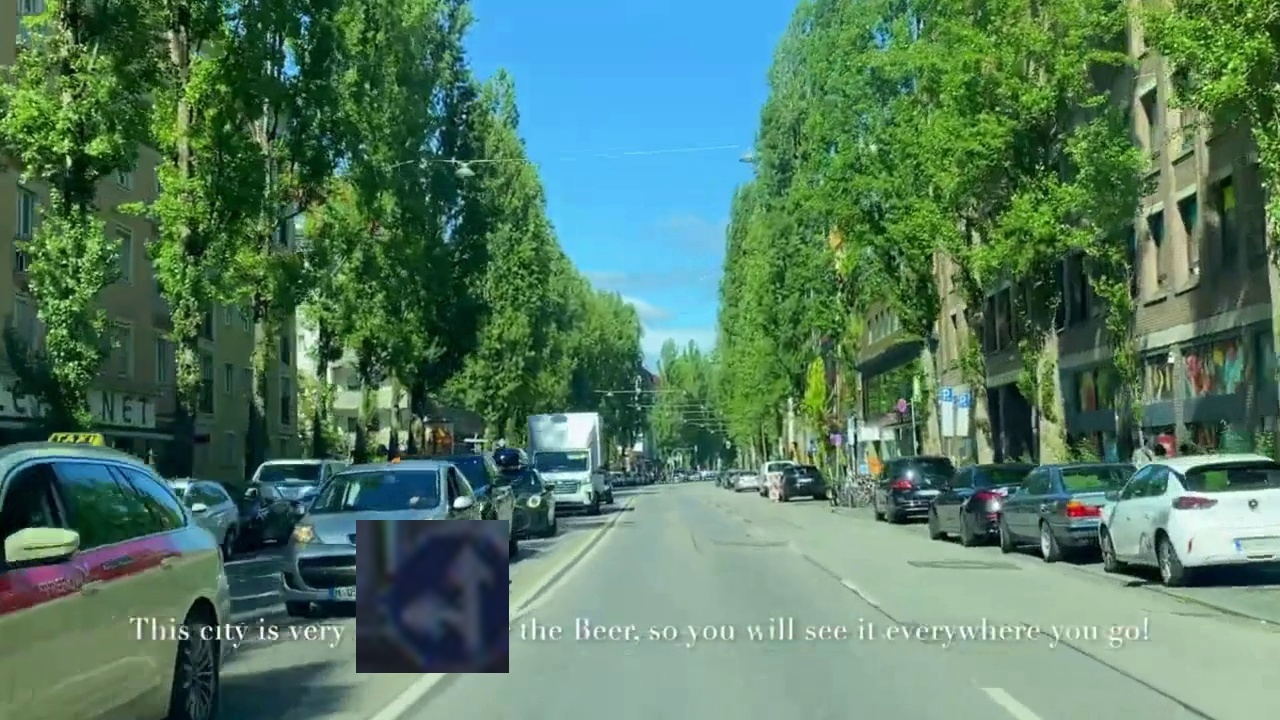Straight/left: (356, 520, 509, 673)
